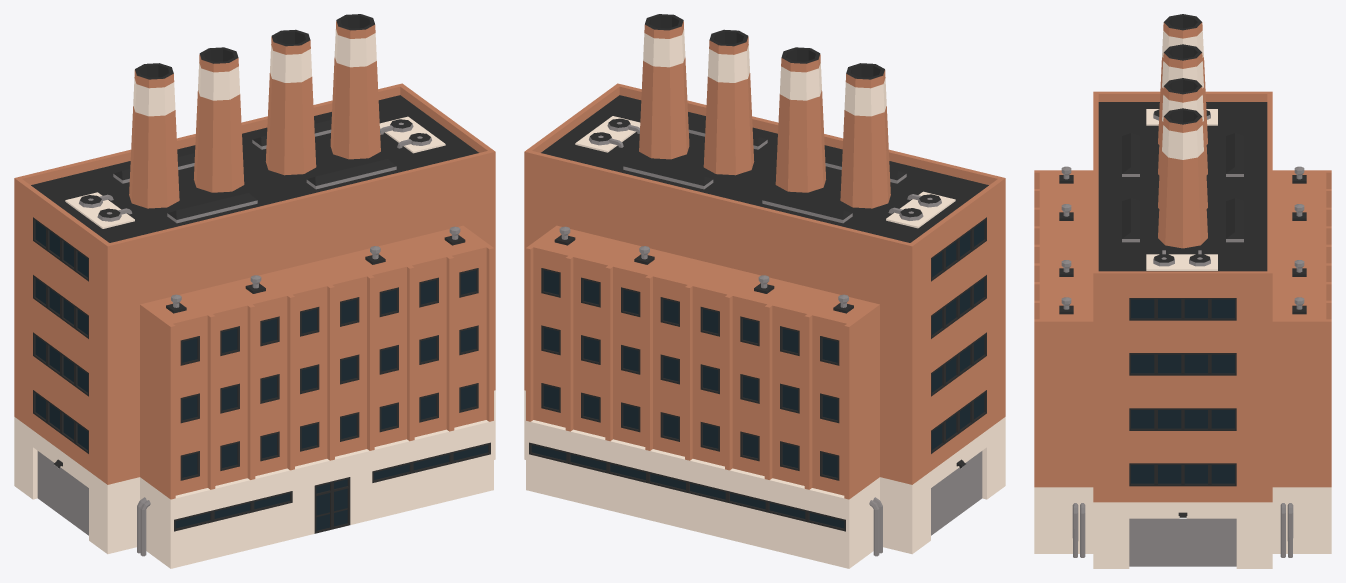
The model's file is industry-factory.glb.
The picture shows the model from 3 angles, left to right: view 1: azimuth 30°, elevation 25°; view 2: azimuth 150°, elevation 25°; view 3: azimuth 270°, elevation 25°; orthographic projection. The views are drawn at different scales.
Visible parts, largest first — view 1: industry-factory; view 2: industry-factory; view 3: industry-factory.
Part boxes in pixels (box(x1,y1,x2,y2)): industry-factory: box(14, 14, 495, 568); industry-factory: box(524, 14, 1005, 568); industry-factory: box(1034, 14, 1331, 568).
Bounding box in the file's own units: 24.71 × 25.21 × 16.6.
1 material, 1 textured.
